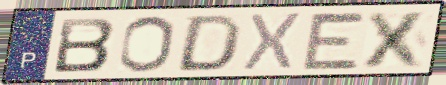B: (51, 16, 118, 74)
D: (172, 13, 245, 73)
E: (299, 11, 370, 72)
O: (116, 14, 177, 74)
X: (357, 9, 433, 69), (240, 10, 306, 72)
